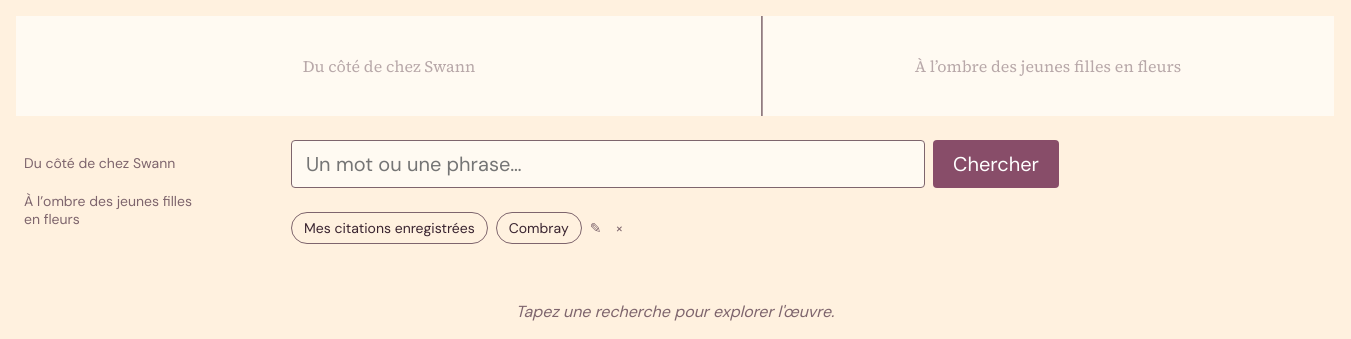
Test case: connected › clicking an already-active tag returns to corpus search
Click the button "Combray". click: click(539, 228)
box: [496,212,582,244]
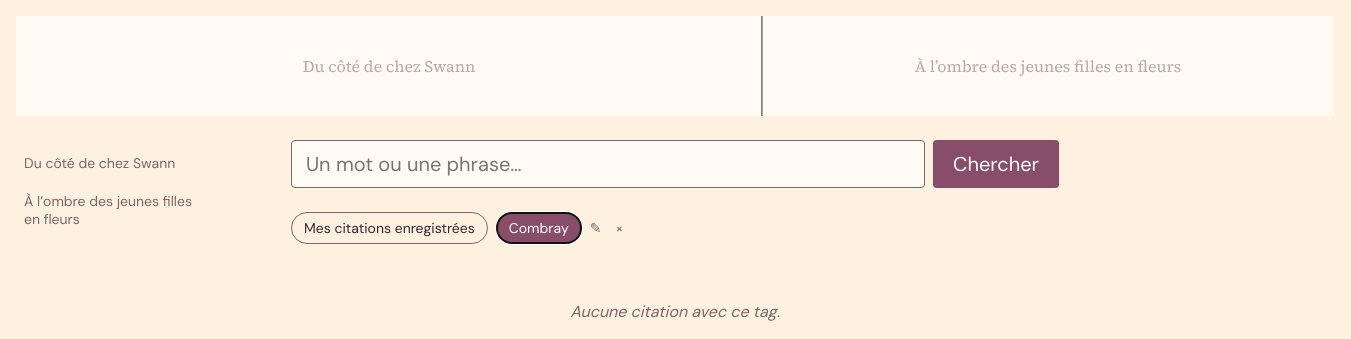
Now the text "Aucune citation avec ce tag." is shown, box [570,301,780,322]
Click the button "Combray". click: click(539, 228)
box: [496,212,582,244]
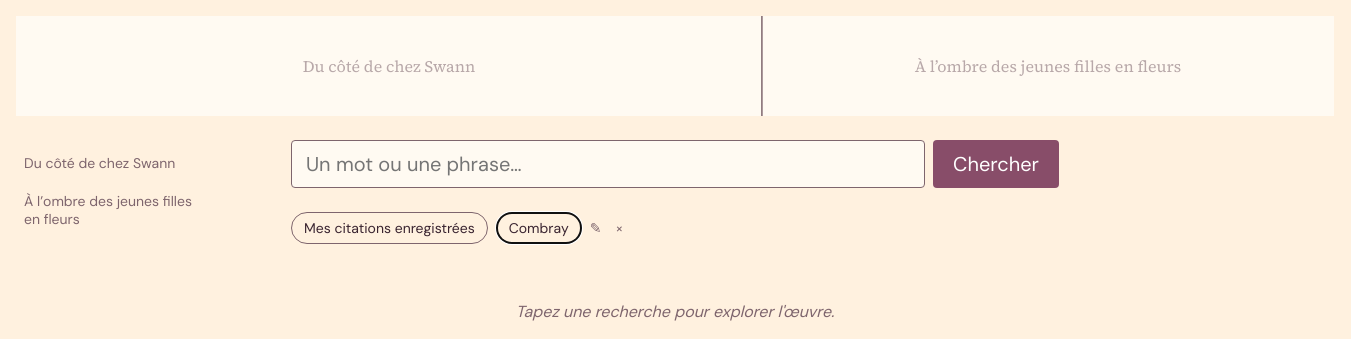
Now the text "Tapez une recherche pour explorer l'œuvre." is shown, box [516,301,834,322]
